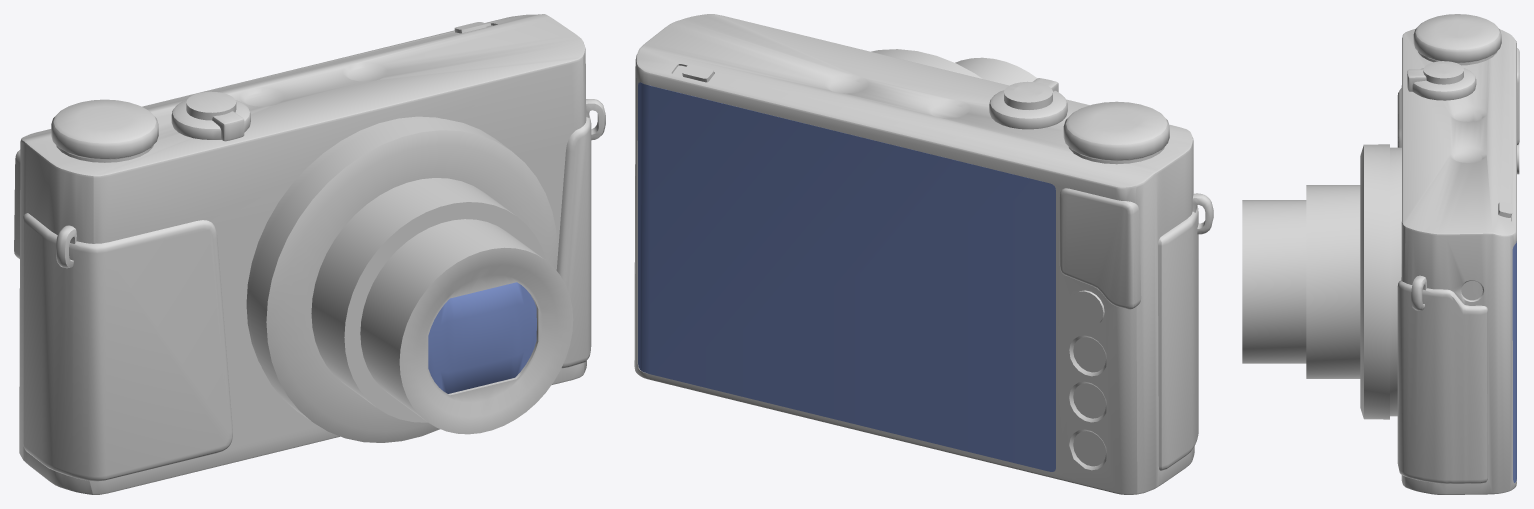
Rendered from Digital Camera.fbx.
The picture shows the model from 3 angles, left to right: view 1: azimuth 30°, elevation 25°; view 2: azimuth 150°, elevation 25°; view 3: azimuth 270°, elevation 25°; orthographic projection. The views are drawn at different scales.
Visible parts, largest first — view 1: Digital_Camera; view 2: Digital_Camera; view 3: Digital_Camera.
Boxes of the visible parts, x1=… form: Digital_Camera: x1=14, y1=14, x2=605, y2=494; Digital_Camera: x1=634, y1=14, x2=1213, y2=494; Digital_Camera: x1=1242, y1=14, x2=1519, y2=494.
Size of what is drawn, in the model's own units: 3.97 by 2.38 by 2.13.
